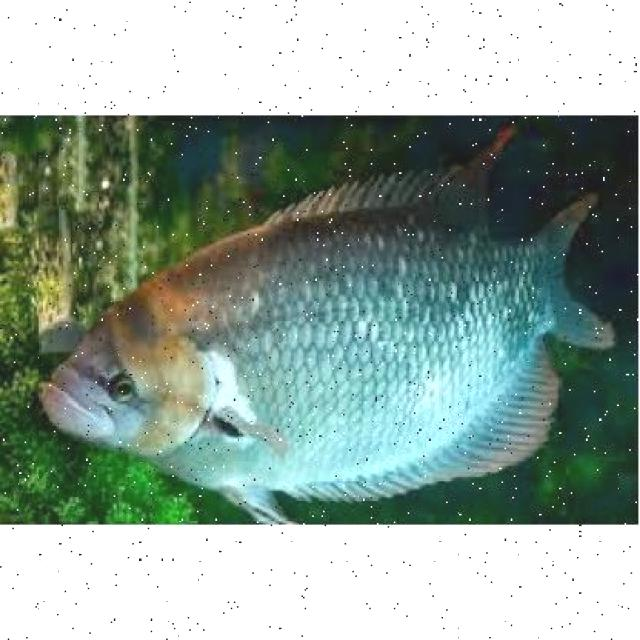gurame: (43, 180, 600, 503)
